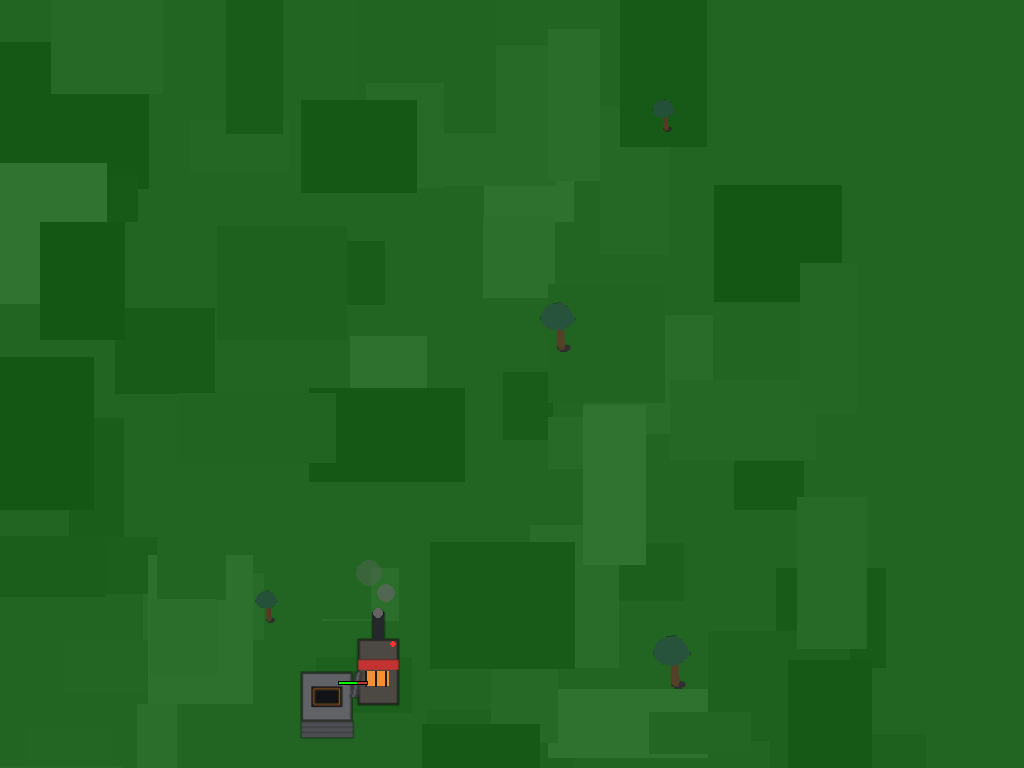FactoryBuilding: (295, 623, 409, 737)
